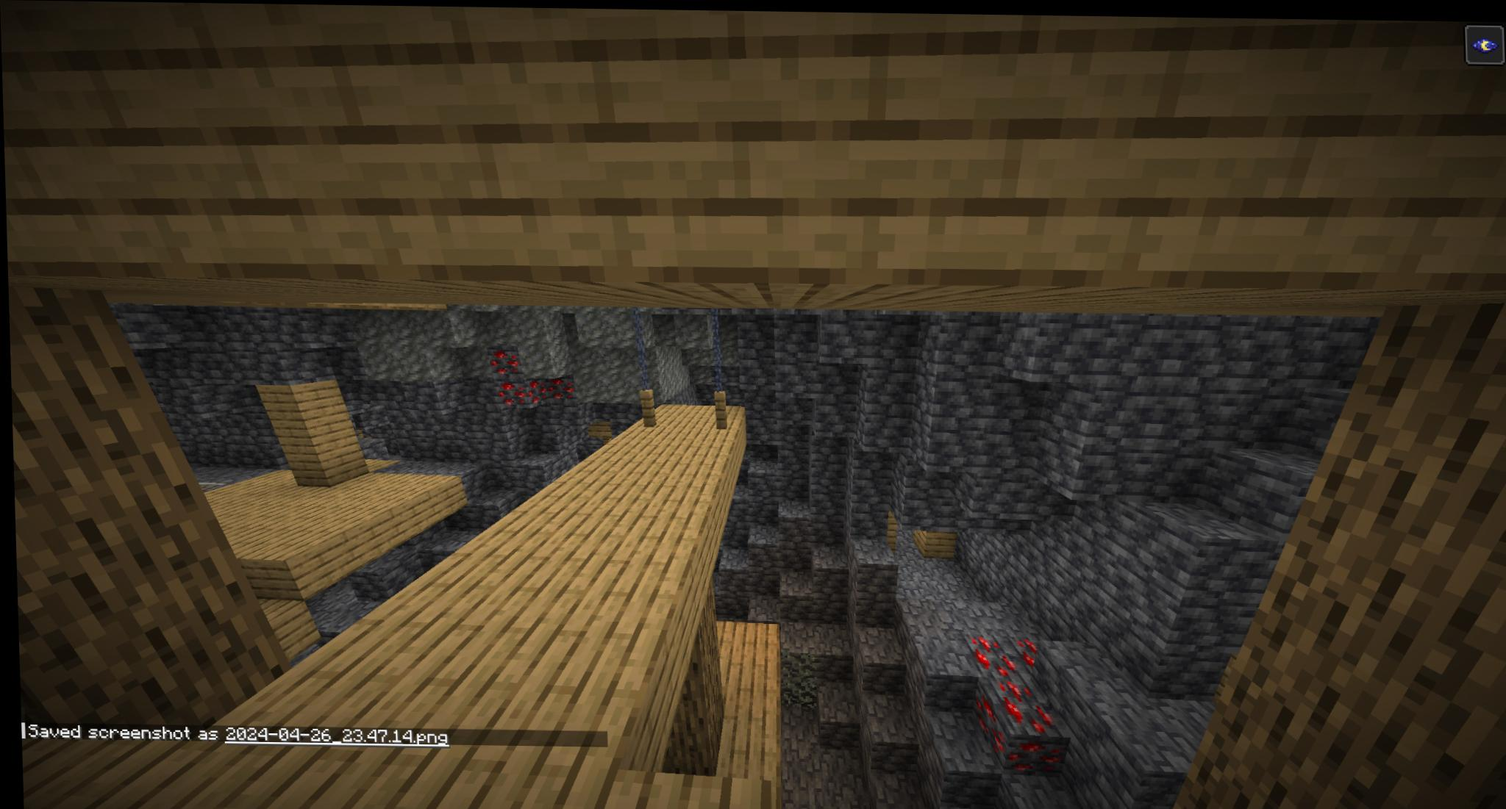redstone ore: (960, 625, 1066, 767), (484, 346, 567, 404)
